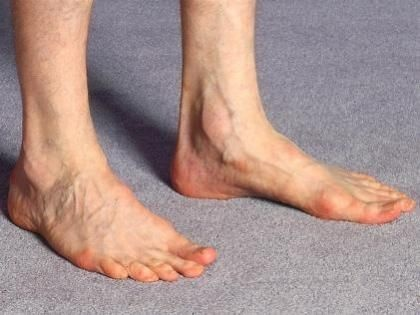feet: (2, 120, 219, 287), (160, 87, 414, 224)
